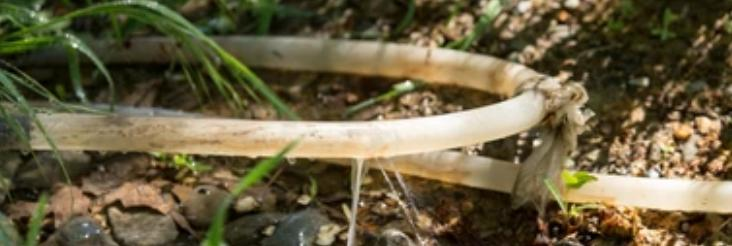pipe burst: (372, 154, 424, 242), (346, 155, 367, 246)
